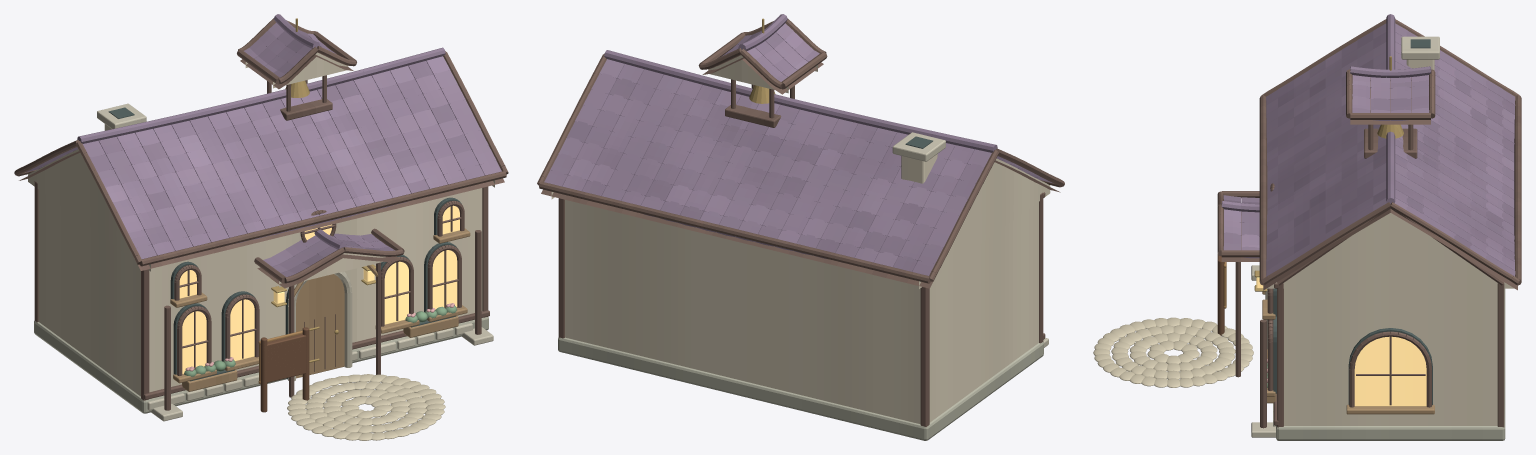
Rendered from village-hall.glb.
3 renders of one model, left to right at view 1: azimuth 30°, elevation 25°; view 2: azimuth 150°, elevation 25°; view 3: azimuth 270°, elevation 25°, orthographic. The views are drawn at different scales.
Parts seen in each view (by area): view 1: Forest hamlet; view 2: Forest hamlet; view 3: Forest hamlet.
Part boxes in pixels (box(x1,y1,x2,y2)): Forest hamlet: box(14, 14, 508, 440); Forest hamlet: box(537, 14, 1064, 440); Forest hamlet: box(1093, 14, 1521, 440).
Size of the model in its own units: 8.89 by 6.98 by 8.59.
18 materials, 18 textured.
